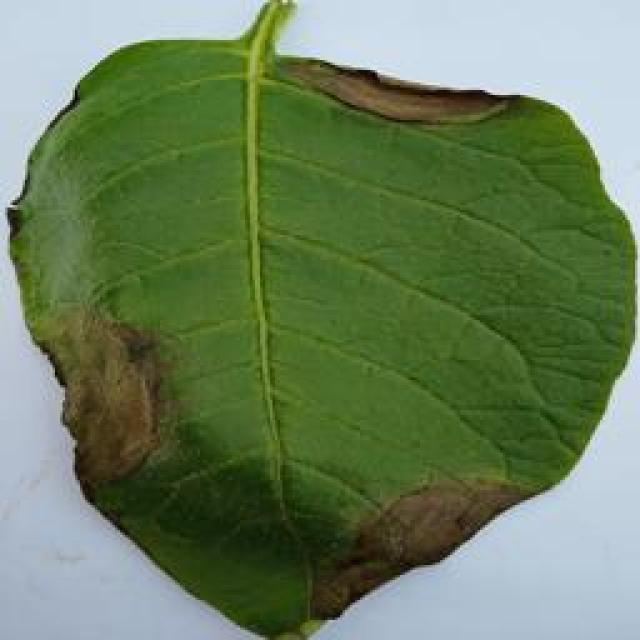Potato_Late_Blight: (10, 37, 637, 640)
